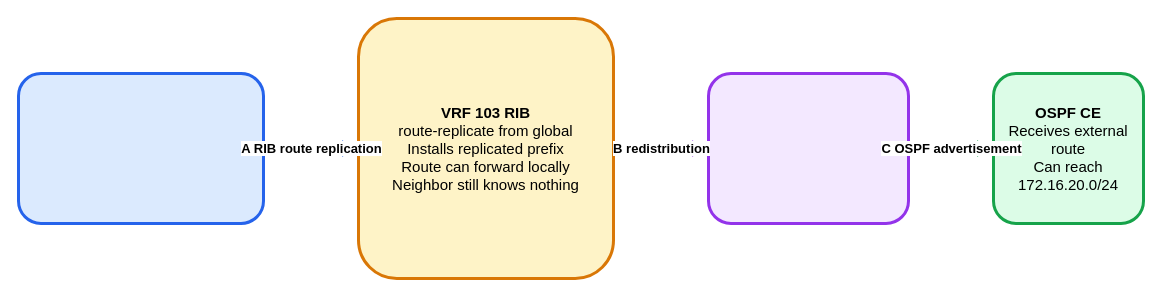
Some shapes in this 1162 by 297 pixel diagram are drawn without their labels. The shapes that lost their labels are listed below. From the top down, each one's box as (x1, y1, x2, y2) in pixels, then its label:
(16, 72, 264, 224): Global BGP Learns 172.16.20.0/24 Source protocol = BGP 65000
(706, 72, 910, 224): VRF 103 OSPF redistribute vrf global bgp 65000 Injects route into OSPF
